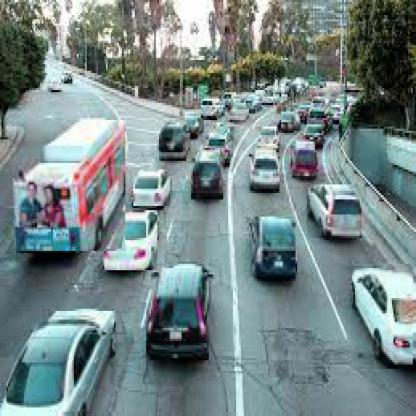bus: (15, 121, 128, 254)
car: (8, 312, 119, 415), (353, 265, 415, 372), (148, 263, 212, 364), (105, 209, 160, 273), (308, 186, 364, 242), (252, 218, 298, 280), (192, 151, 226, 203), (248, 147, 282, 196), (134, 170, 173, 209), (160, 123, 189, 164), (290, 141, 318, 181), (282, 112, 303, 134), (229, 102, 248, 125)
